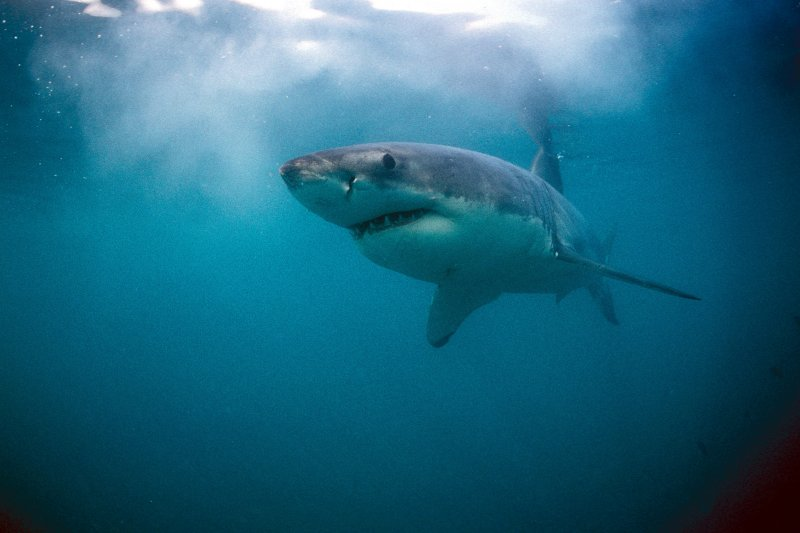Carcharodon_carcharias: (246, 97, 718, 371)
